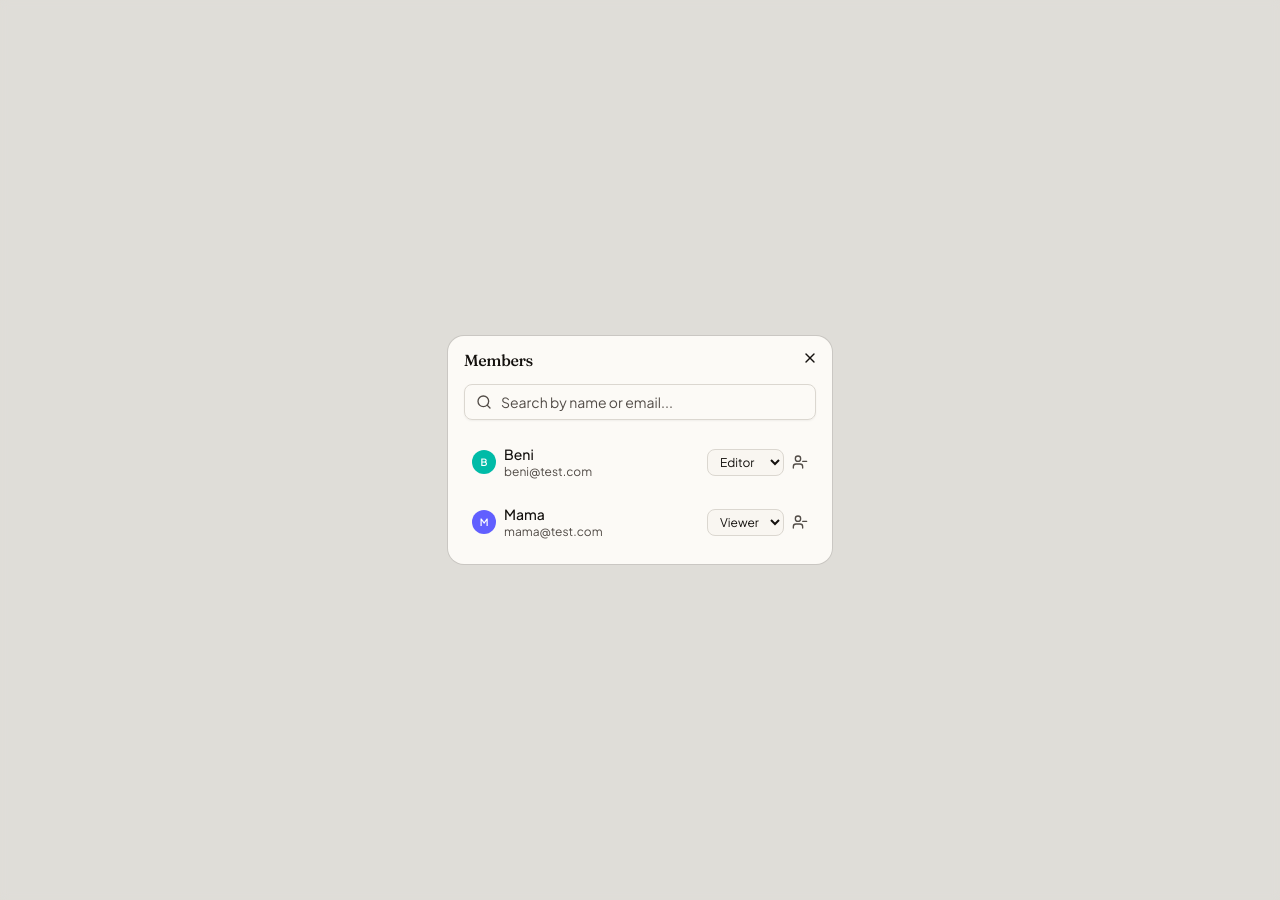
MembersDialog › shows search results dropdown
Type "alice" into the field with placeholder "Search by name or email..." at (640, 402), box [464,384,816,420]
Wait 350 ms
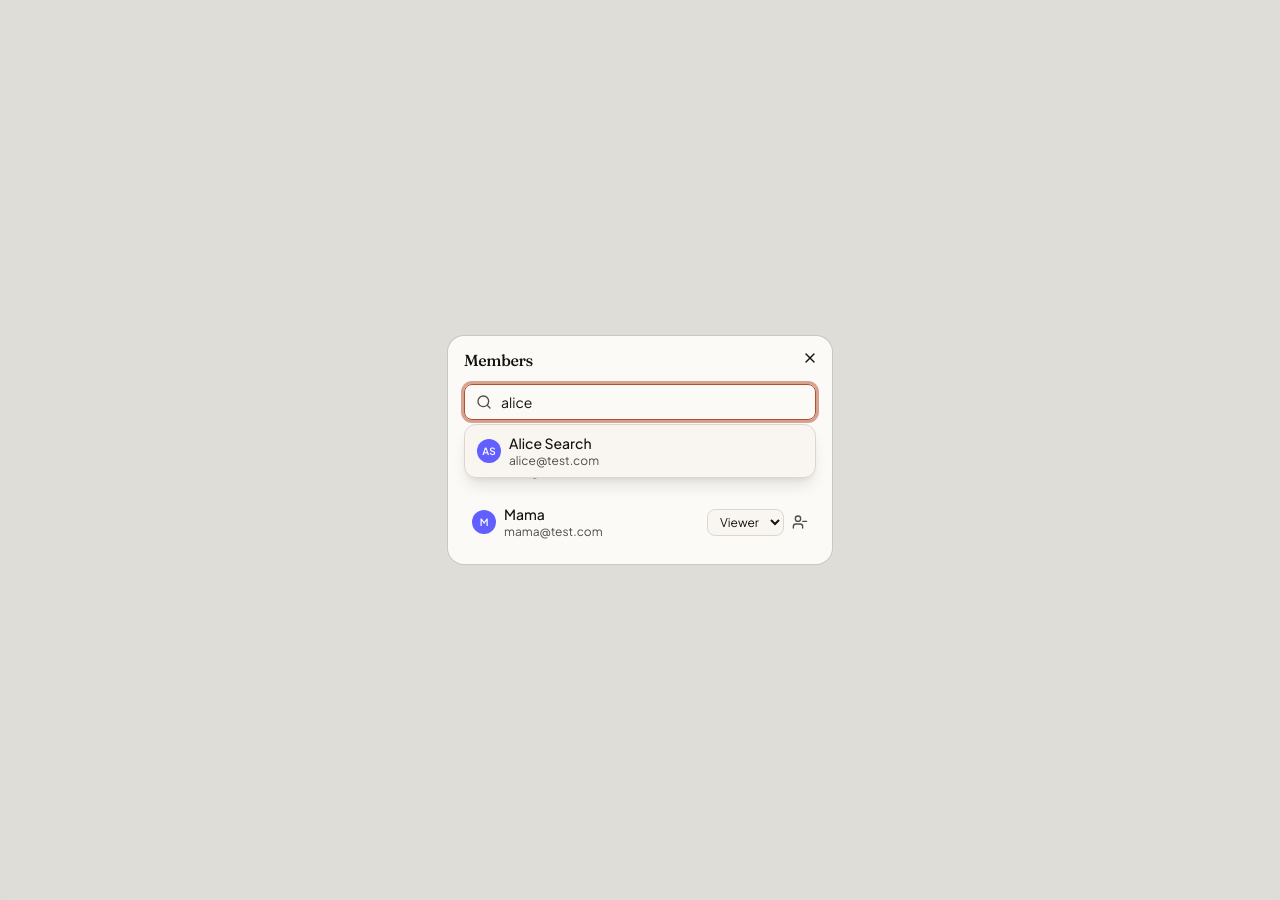
Result: the text "Alice Search" is shown at [509,434,592,452]
